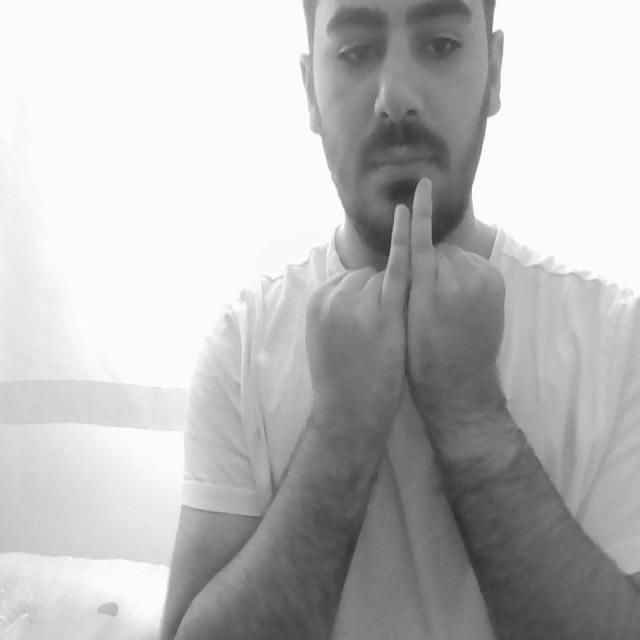Kardes: (301, 172, 514, 418)
